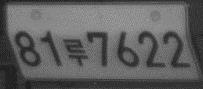1: (39, 29, 61, 67)
2: (137, 28, 167, 70), (163, 28, 192, 69)
6: (115, 30, 140, 68)
7: (85, 31, 110, 68)
8: (13, 30, 41, 67)
루: (62, 38, 88, 68)
